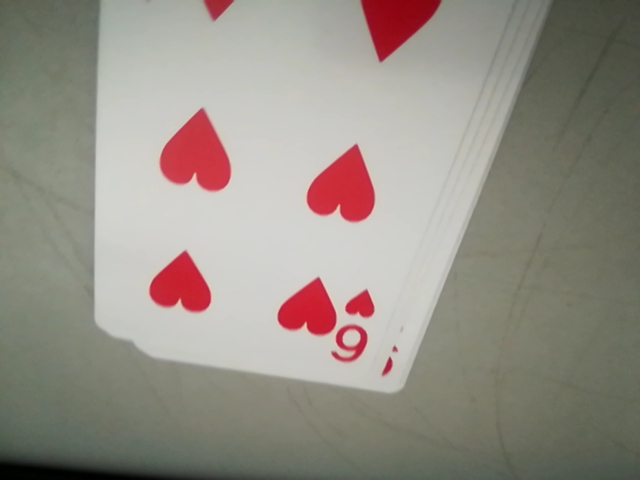hx 6: (333, 285, 381, 366)
